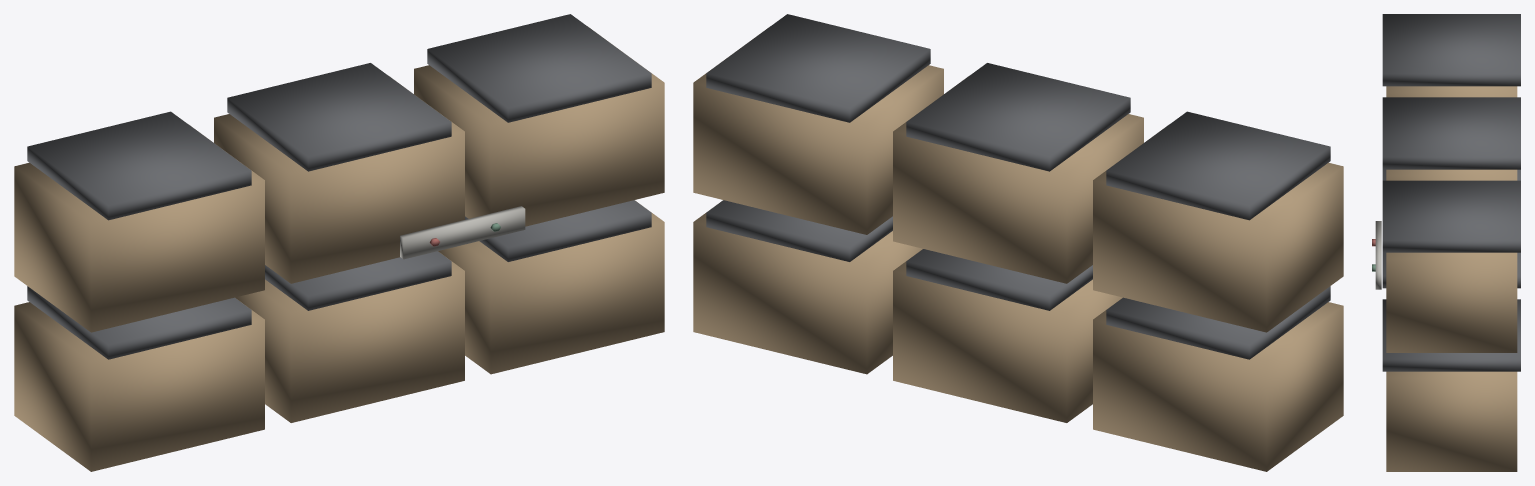
File: fruit_crate_display__wide.glb
3 renders of one model, left to right at view 1: azimuth 30°, elevation 25°; view 2: azimuth 150°, elevation 25°; view 3: azimuth 270°, elevation 25°, orthographic. The views are drawn at different scales.
Parts seen in each view (by area): view 1: world; view 2: world; view 3: world.
Part boxes in pixels (x1,y1,x2,y2): world: [14, 14, 664, 471]; world: [693, 14, 1343, 471]; world: [1372, 14, 1520, 471].
Bounding box in the file's own units: 1.64 × 0.72 × 0.431.
